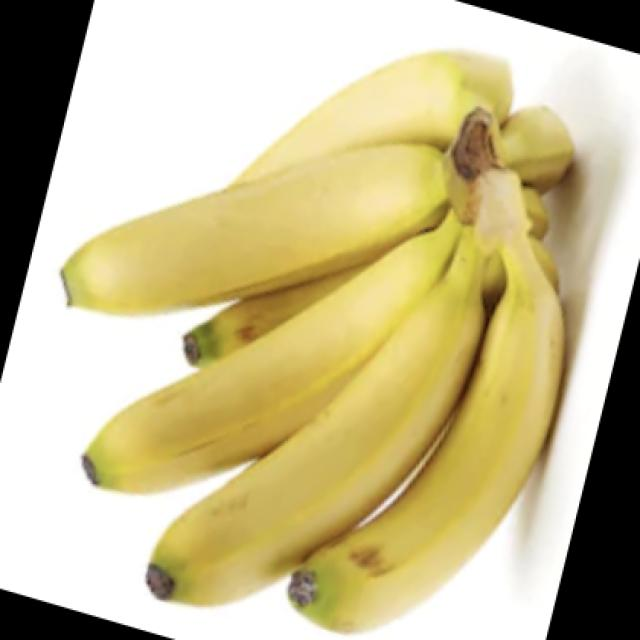god quality banana: (62, 51, 576, 631)
